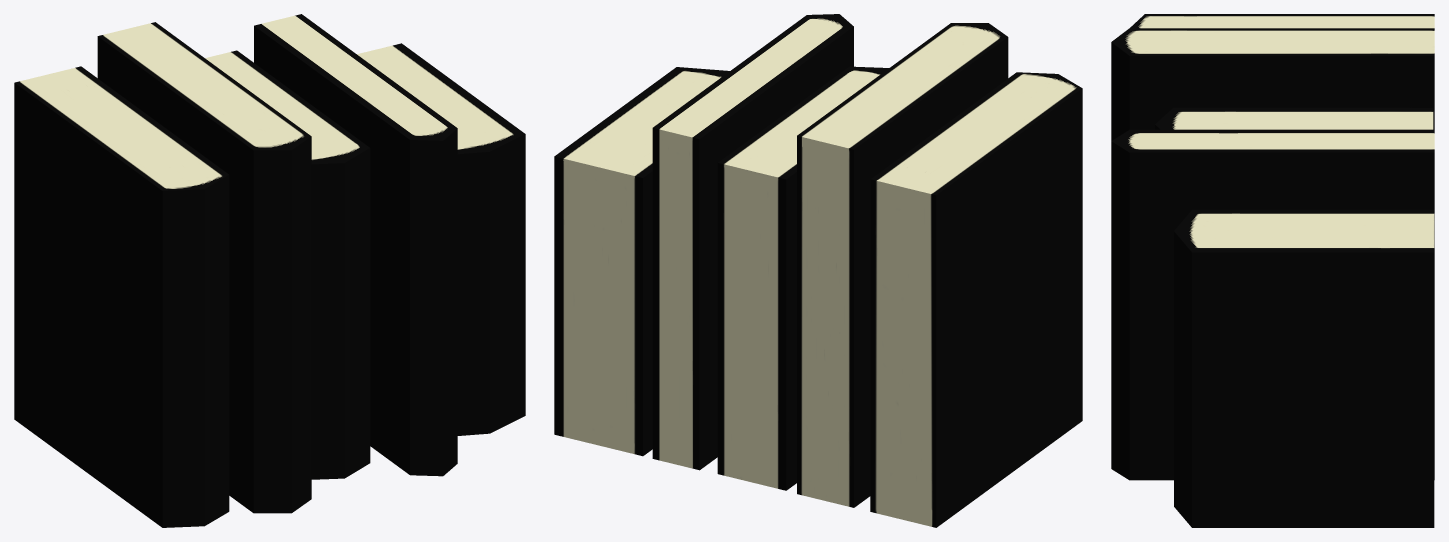
Rendered from books.fbx.
The picture shows the model from 3 angles, left to right: view 1: azimuth 30°, elevation 25°; view 2: azimuth 150°, elevation 25°; view 3: azimuth 270°, elevation 25°; orthographic projection. The views are drawn at different scales.
Parts seen in each view (by area): view 1: book1, book2, book4, book5, book3; view 2: book1, book2, book5, book4, book3; view 3: book5, book4, book2, book3, book1.
Boxes of the visible parts, bbox=[...] form: book1: bbox=[14, 66, 229, 527]; book2: bbox=[97, 22, 311, 513]; book4: bbox=[254, 14, 457, 476]; book5: bbox=[357, 43, 525, 435]; book3: bbox=[205, 50, 370, 479]; book1: bbox=[870, 72, 1082, 527]; book2: bbox=[797, 23, 1008, 507]; book5: bbox=[554, 67, 729, 456]; book4: bbox=[652, 14, 853, 470]; book3: bbox=[717, 66, 888, 490]; book5: bbox=[1174, 209, 1434, 527]; book4: bbox=[1111, 129, 1434, 480]; book2: bbox=[1111, 28, 1434, 140]; book3: bbox=[1155, 107, 1433, 129]; book1: bbox=[1130, 14, 1434, 28].
Size of the model in its own units: 223 by 200 by 165.
Materials: 5 (5 with a texture image).
